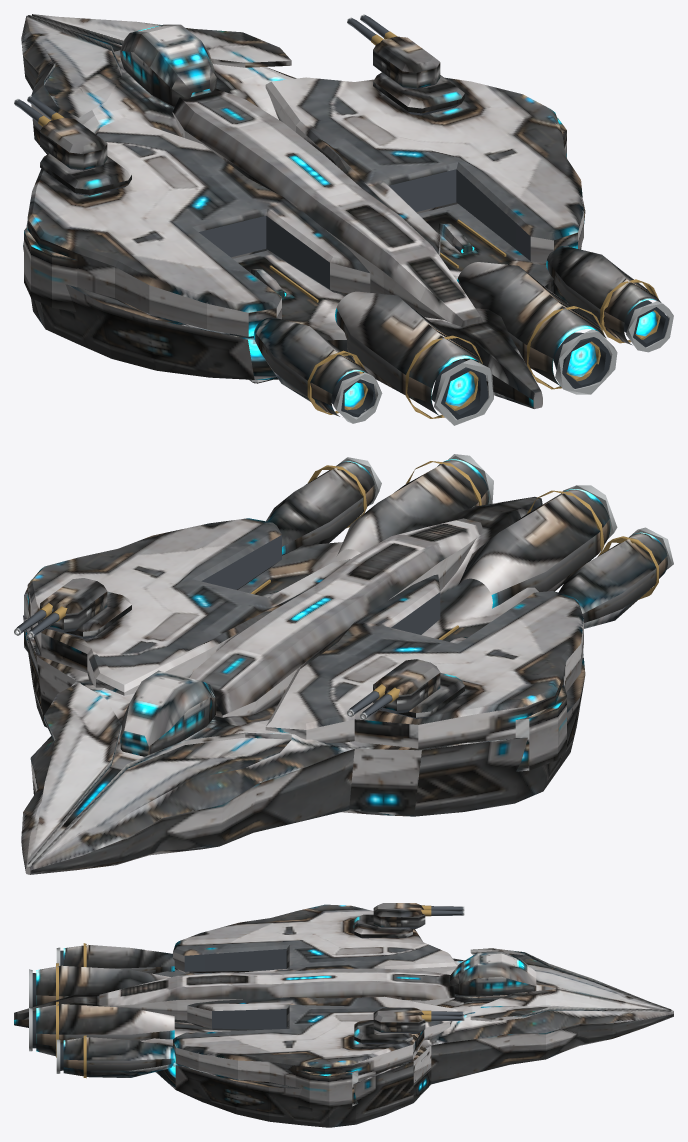
File: cruiser-lod2.glb
The picture shows the model from 3 angles, top to bottom: view 1: azimuth 30°, elevation 25°; view 2: azimuth 150°, elevation 25°; view 3: azimuth 270°, elevation 25°; orthographic projection. The views are drawn at different scales.
Parts seen in each view (by area): view 1: Static / Reference artwork | titanium, brass, panels and can, Static / Structural frames | gunmetal, turret.port / Reference artwork | titanium, brass, panels an, turret.starboard / Reference artwork | titanium, brass, pane, Static / Machined titanium edges, Static / Structural rails | dark alloy, Static / Warm brass collars, Static / Ventral armor | dedicated bottom-view reference, turret.starboard / Structural frames | gunmetal, turret.port / Structural frames | gunmetal; view 2: Static / Reference artwork | titanium, brass, panels and can, turret.port / Reference artwork | titanium, brass, panels an, turret.starboard / Reference artwork | titanium, brass, pane, Static / Structural frames | gunmetal, Static / Warm brass collars, Static / Ventral armor | dedicated bottom-view reference, Static / Machined titanium edges, turret.starboard / Structural frames | gunmetal, turret.port / Structural frames | gunmetal; view 3: Static / Reference artwork | titanium, brass, panels and can, Static / Structural frames | gunmetal, turret.port / Reference artwork | titanium, brass, panels an, turret.starboard / Reference artwork | titanium, brass, pane, Static / Ventral armor | dedicated bottom-view reference, Static / Machined titanium edges, Static / Structural rails | dark alloy, Static / Warm brass collars, turret.starboard / Structural frames | gunmetal, turret.port / Structural frames | gunmetal.
Part boxes in pixels (box(x1,y1,x2,y2)): Static / Reference artwork | titanium, brass, panels and can: box(21, 14, 661, 408); Static / Structural frames | gunmetal: box(199, 169, 530, 289); turret.port / Reference artwork | titanium, brass, panels an: box(40, 117, 131, 194); turret.starboard / Reference artwork | titanium, brass, pane: box(373, 36, 464, 113); Static / Machined titanium edges: box(333, 301, 673, 425); Static / Structural rails | dark alloy: box(283, 245, 669, 419); Static / Warm brass collars: box(269, 219, 660, 418); Static / Ventral armor | dedicated bottom-view reference: box(89, 71, 632, 416); turret.starboard / Structural frames | gunmetal: box(347, 15, 460, 115); turret.port / Structural frames | gunmetal: box(14, 96, 127, 195); Static / Reference artwork | titanium, brass, panels and can: box(21, 459, 667, 874); turret.port / Reference artwork | titanium, brass, panels an: box(373, 659, 464, 717); turret.starboard / Reference artwork | titanium, brass, pane: box(40, 578, 131, 636); Static / Structural frames | gunmetal: box(201, 535, 440, 634); Static / Warm brass collars: box(250, 461, 658, 639); Static / Ventral armor | dedicated bottom-view reference: box(30, 497, 666, 874); Static / Machined titanium edges: box(338, 454, 673, 569); turret.starboard / Structural frames | gunmetal: box(16, 610, 126, 638); turret.port / Structural frames | gunmetal: box(349, 690, 437, 718); Static / Reference artwork | titanium, brass, panels and can: box(14, 904, 673, 1127); Static / Structural frames | gunmetal: box(184, 949, 286, 1029); turret.port / Reference artwork | titanium, brass, panels an: box(354, 903, 425, 937); turret.starboard / Reference artwork | titanium, brass, pane: box(354, 1008, 425, 1042); Static / Ventral armor | dedicated bottom-view reference: box(14, 968, 673, 1086); Static / Machined titanium edges: box(29, 947, 60, 1073); Static / Structural rails | dark alloy: box(32, 950, 63, 1070); Static / Warm brass collars: box(56, 943, 86, 1078); turret.starboard / Structural frames | gunmetal: box(356, 1011, 463, 1044); turret.port / Structural frames | gunmetal: box(355, 906, 463, 938).
Size of the model in its own units: 11.07 by 3.07 by 18.57.
7 materials, 2 textured.
